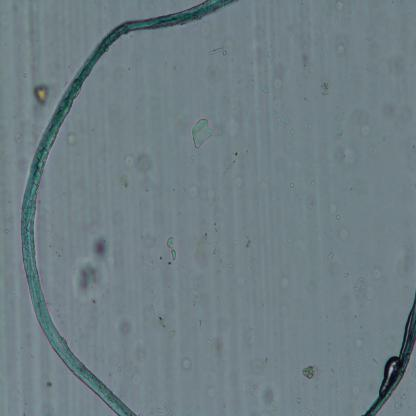Background material: (70, 233, 113, 302), (143, 296, 176, 340), (292, 18, 314, 76), (190, 116, 215, 150), (115, 313, 136, 340), (144, 395, 171, 416), (334, 144, 358, 167), (260, 385, 280, 411), (136, 155, 154, 179), (65, 127, 82, 150), (32, 82, 48, 106), (329, 116, 344, 141), (194, 232, 206, 259), (201, 183, 218, 202), (334, 36, 351, 55), (301, 366, 318, 383), (120, 150, 136, 168), (228, 142, 240, 165), (180, 352, 193, 372), (167, 237, 177, 262), (343, 109, 356, 128), (120, 172, 134, 189), (187, 181, 200, 199), (268, 77, 283, 92), (321, 74, 330, 98), (256, 177, 270, 192), (244, 234, 255, 252), (232, 172, 244, 186), (207, 48, 227, 56), (360, 122, 370, 138), (334, 0, 346, 13), (280, 275, 289, 290), (324, 249, 334, 261), (260, 83, 270, 95), (44, 378, 52, 392), (342, 226, 349, 242), (330, 204, 338, 215), (274, 49, 281, 61), (318, 50, 326, 60), (212, 247, 218, 260), (310, 177, 317, 186), (295, 198, 302, 204), (276, 116, 281, 124), (291, 166, 296, 174), (336, 212, 342, 218), (308, 122, 312, 131), (288, 183, 294, 188), (284, 117, 288, 124), (238, 80, 245, 84), (291, 128, 294, 136)
Cotton: (19, 1, 237, 415), (359, 292, 416, 416)
